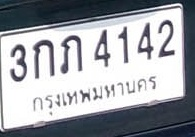num3: (9, 43, 28, 84)
txt01: (31, 39, 55, 81)
txt27: (59, 34, 84, 76)
